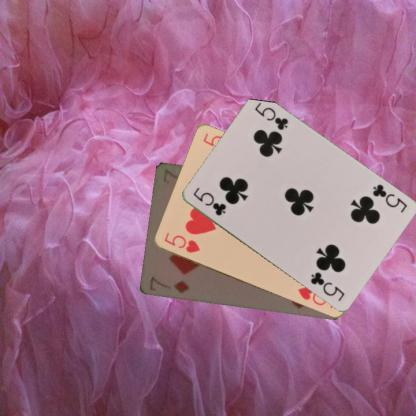5c: (369, 181, 408, 214), (190, 184, 227, 218)
5h: (161, 230, 201, 255)
7d: (147, 274, 190, 295)
